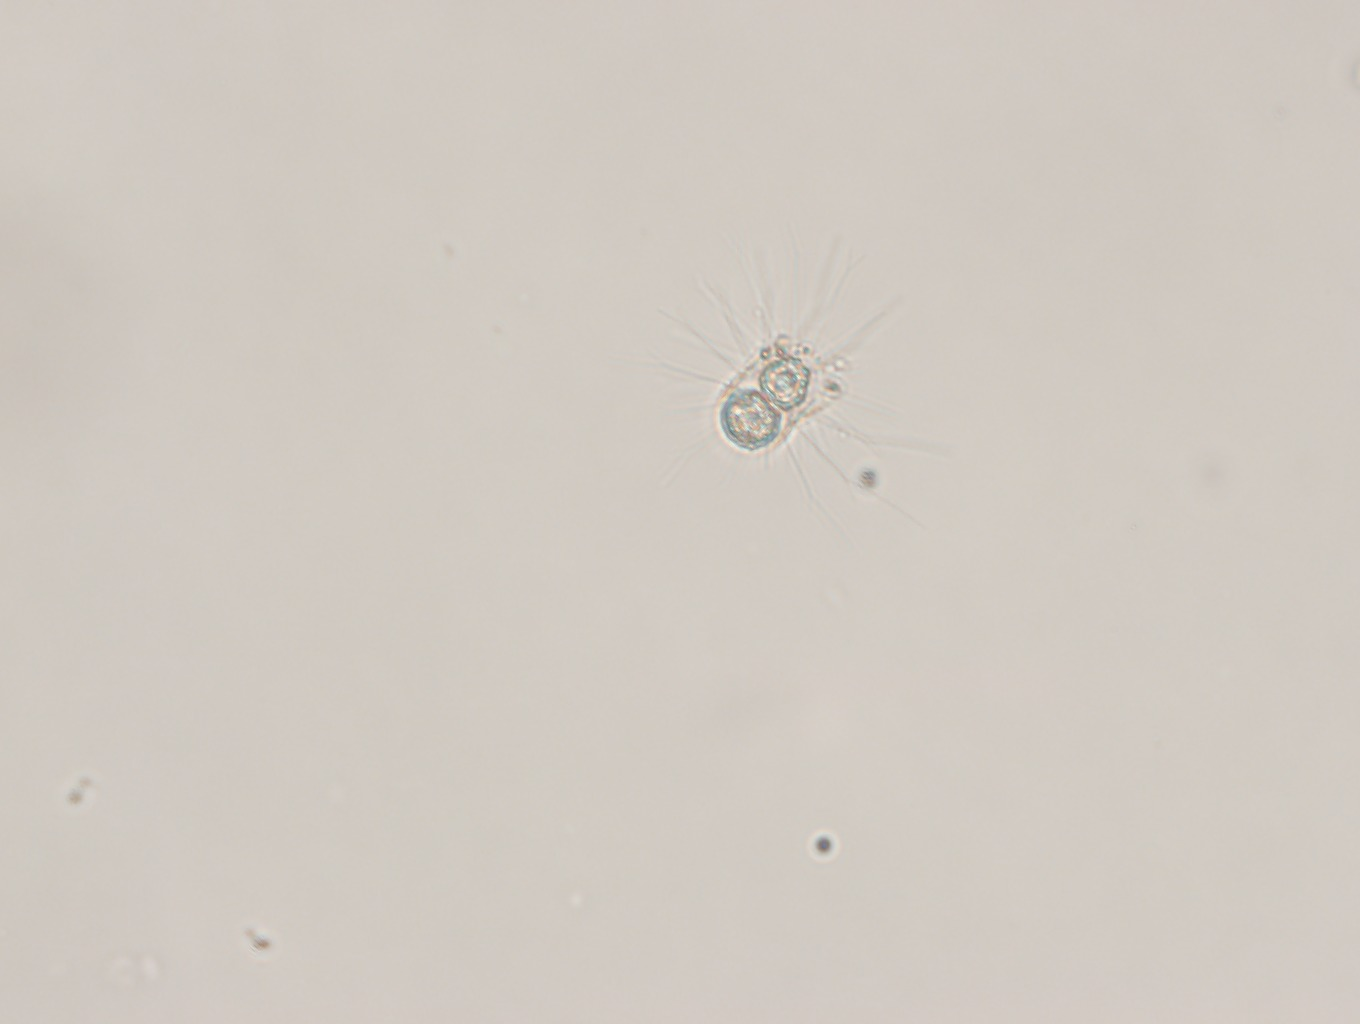corethron: (622, 229, 920, 524)
